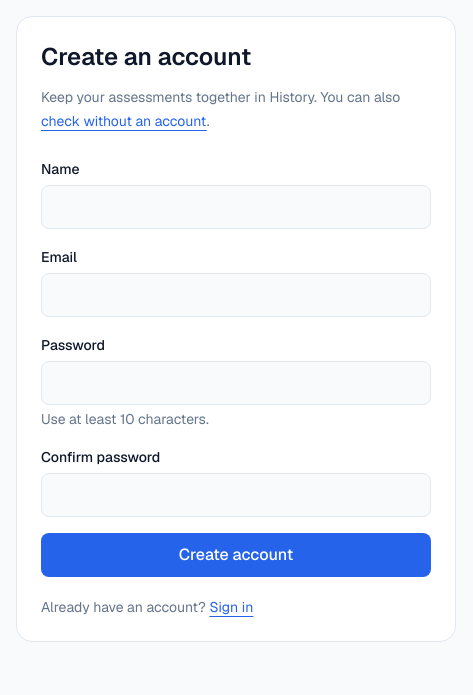
Test: rejects mismatched registration passwords
Type "dummy@example.test" into the field labelled "Email" at (236, 295), box [41,273,431,317]
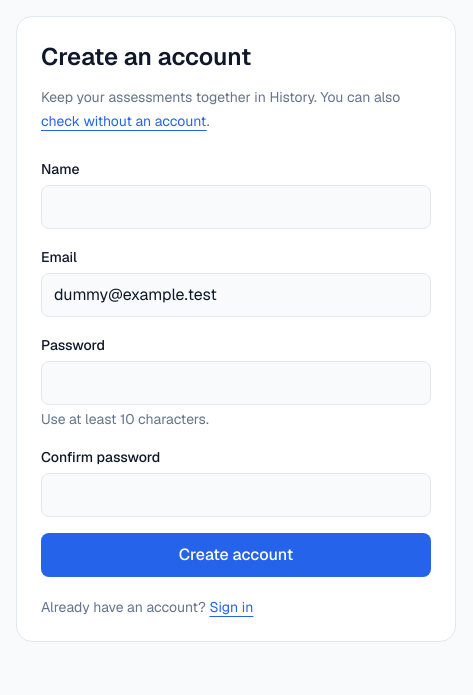
Type "Dummy" into the field labelled "Name" at (236, 207), box [41,185,431,229]
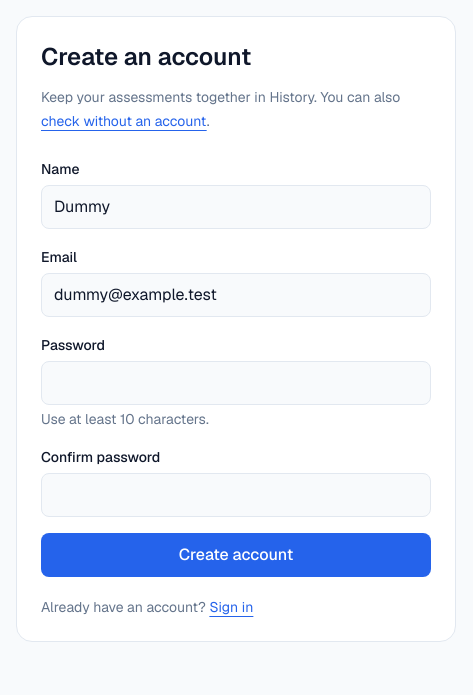
Type "safe-dummy-password" into the password field labelled "Password" at (236, 383), box [41,361,431,405]
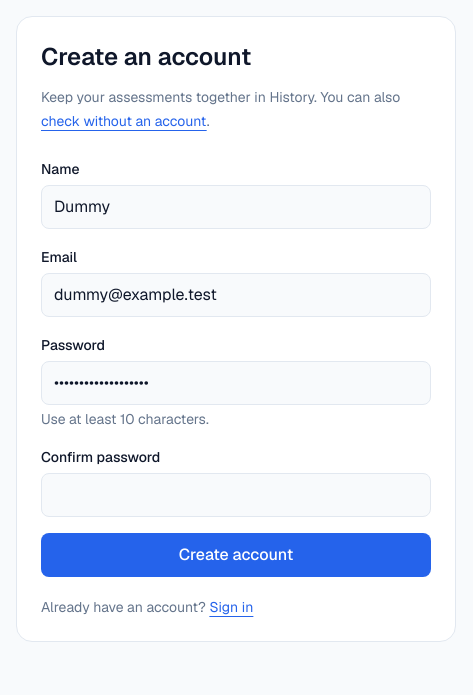
Type "different-password" into the password field labelled "Confirm password" at (236, 495), box [41,473,431,517]
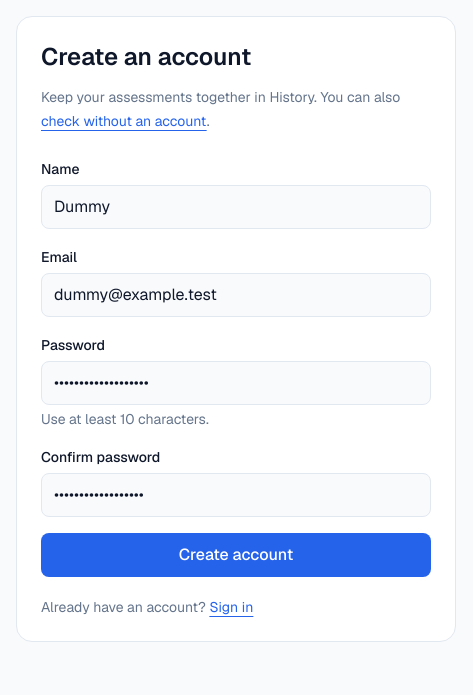
Submit the form, box [41,157,431,577]
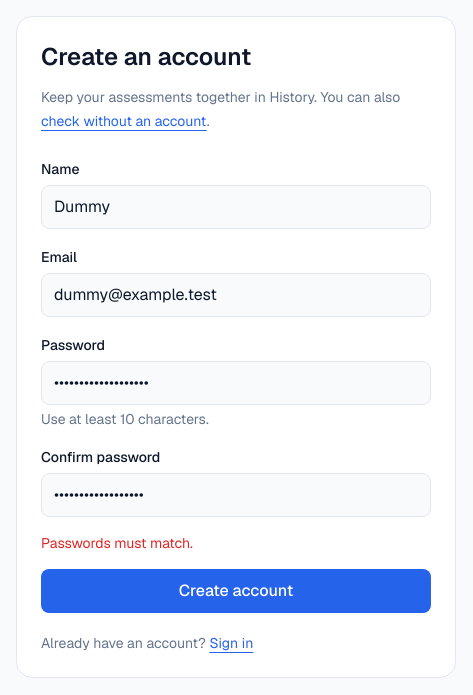
Now the text "Passwords must match" is shown, box [41,534,193,552]
